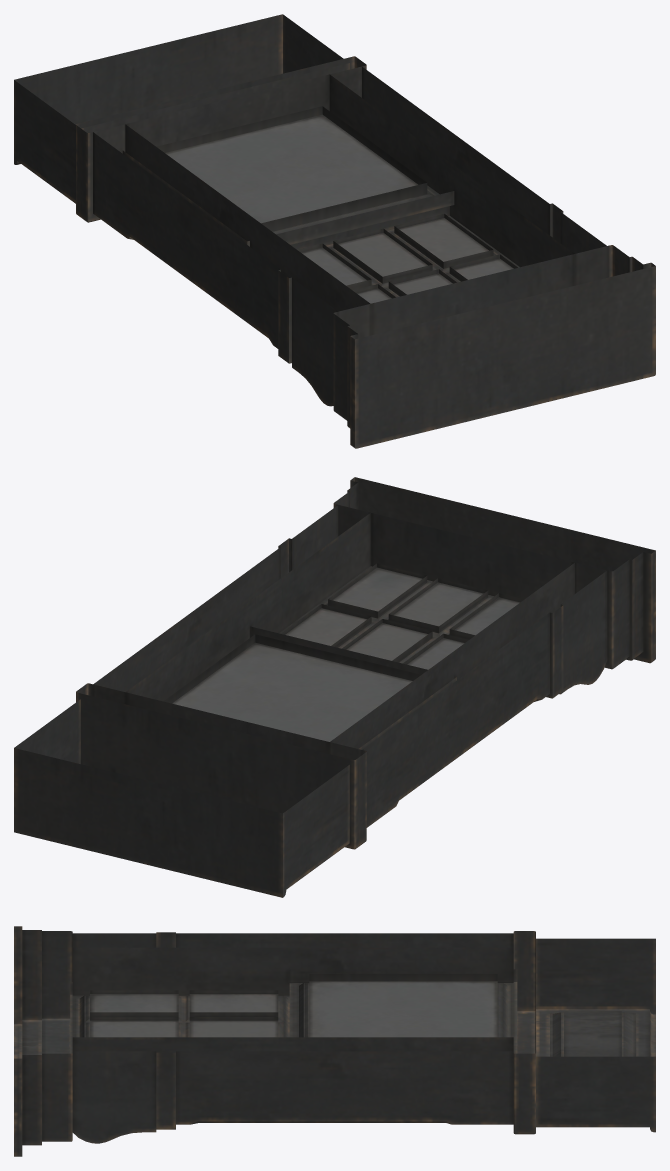
Rendered from window_centered_small_01.gltf.
3 renders of one model, top to bottom at view 1: azimuth 30°, elevation 25°; view 2: azimuth 150°, elevation 25°; view 3: azimuth 270°, elevation 25°, orthographic. The views are drawn at different scales.
Parts seen in each view (by area): view 1: window_centered_small_01; view 2: window_centered_small_01; view 3: window_centered_small_01.
Boxes of the visible parts, <box> form: window_centered_small_01: <box>14,14,655,448</box>; window_centered_small_01: <box>14,477,655,897</box>; window_centered_small_01: <box>14,926,655,1156</box>.
Bounding box in the file's own units: 1.12 × 0.39 × 2.3.
2 materials, 2 textured.
